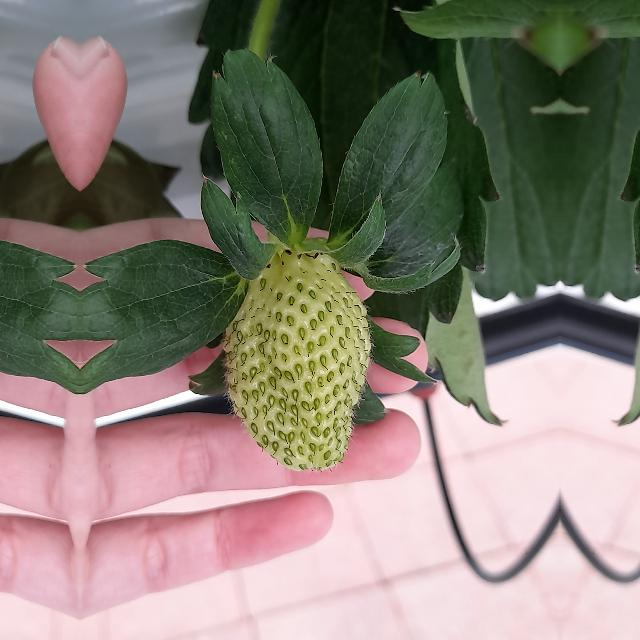Health_25: (222, 247, 370, 471)
